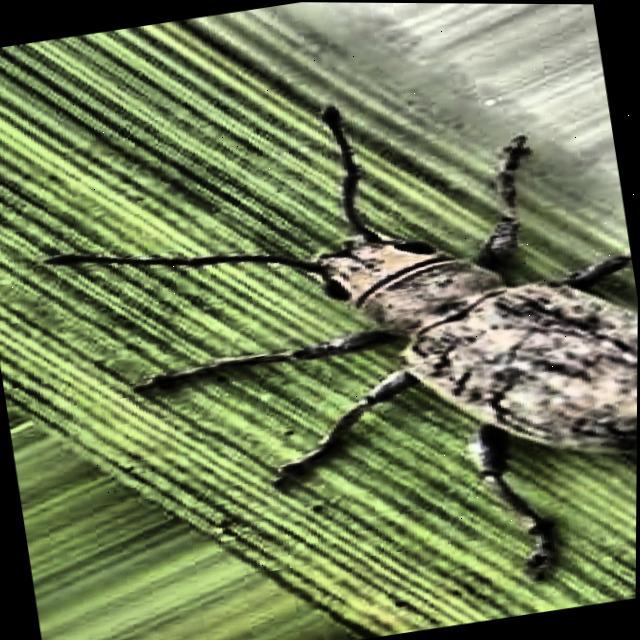Stink bug: (109, 9, 640, 579)
